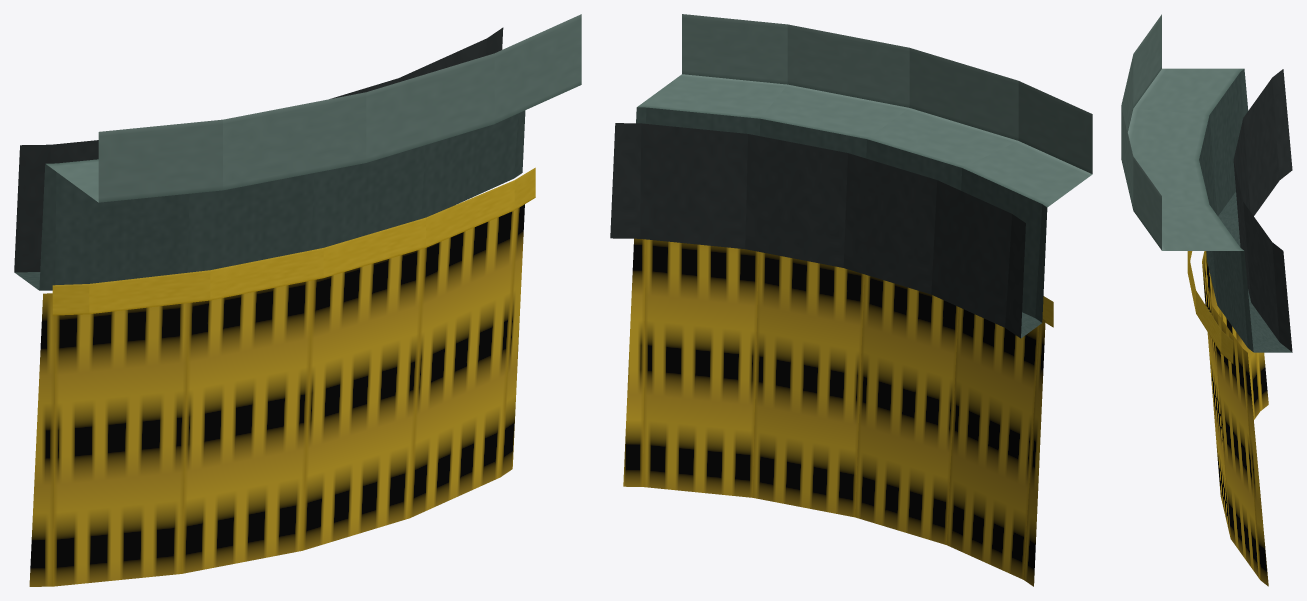
Rendered from cell_142.obj.
The picture shows the model from 3 angles, left to right: view 1: azimuth 30°, elevation 25°; view 2: azimuth 150°, elevation 25°; view 3: azimuth 270°, elevation 25°; orthographic projection. The views are drawn at different scales.
Size of the model in its own units: 1 by 1 by 0.3969.
